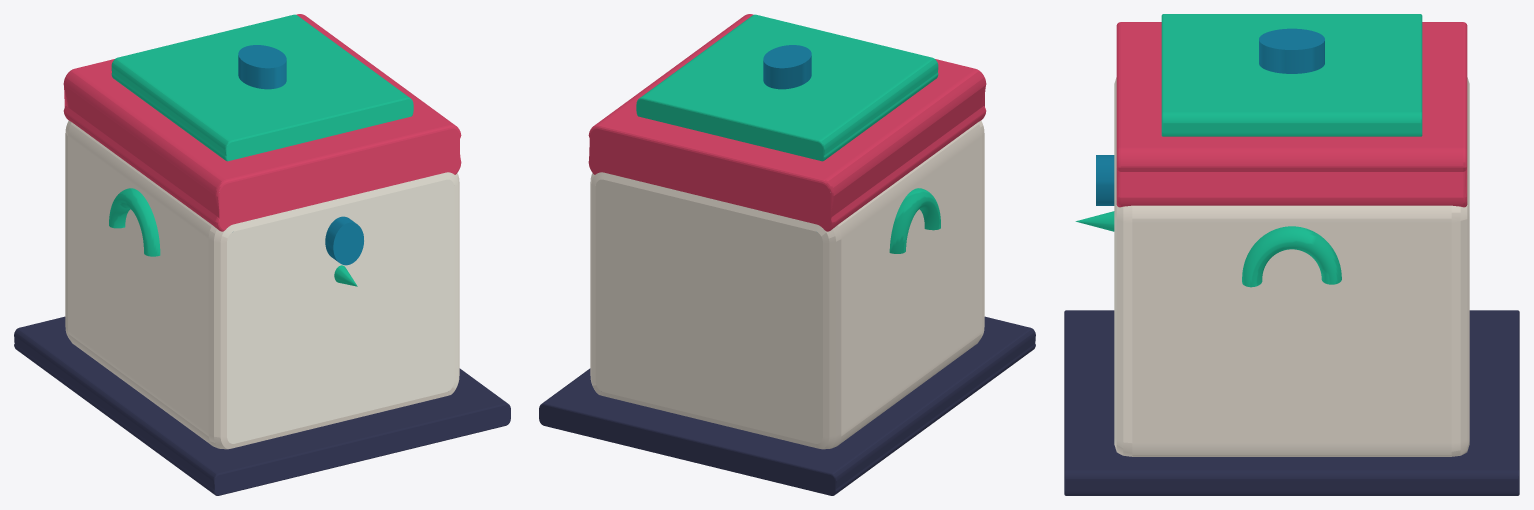
Rendered from 0610_考古图鉴_沉箱.glb.
3 renders of one model, left to right at view 1: azimuth 30°, elevation 25°; view 2: azimuth 150°, elevation 25°; view 3: azimuth 270°, elevation 25°, orthographic. The views are drawn at different scales.
Visible parts, largest first — view 1: card_0610; view 2: card_0610; view 3: card_0610.
Boxes of the visible parts, x1,y1,x2,y2 form: card_0610: (14,14,510,495); card_0610: (539,14,1035,495); card_0610: (1064,14,1519,495).
Size of the model in its own units: 0.9393 by 1 by 1.1.
